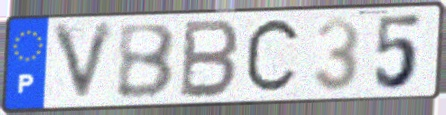3: (310, 13, 363, 96)
5: (372, 11, 427, 94)
B: (176, 18, 243, 101), (115, 21, 179, 101)
C: (242, 14, 305, 100)
V: (48, 19, 120, 107)
